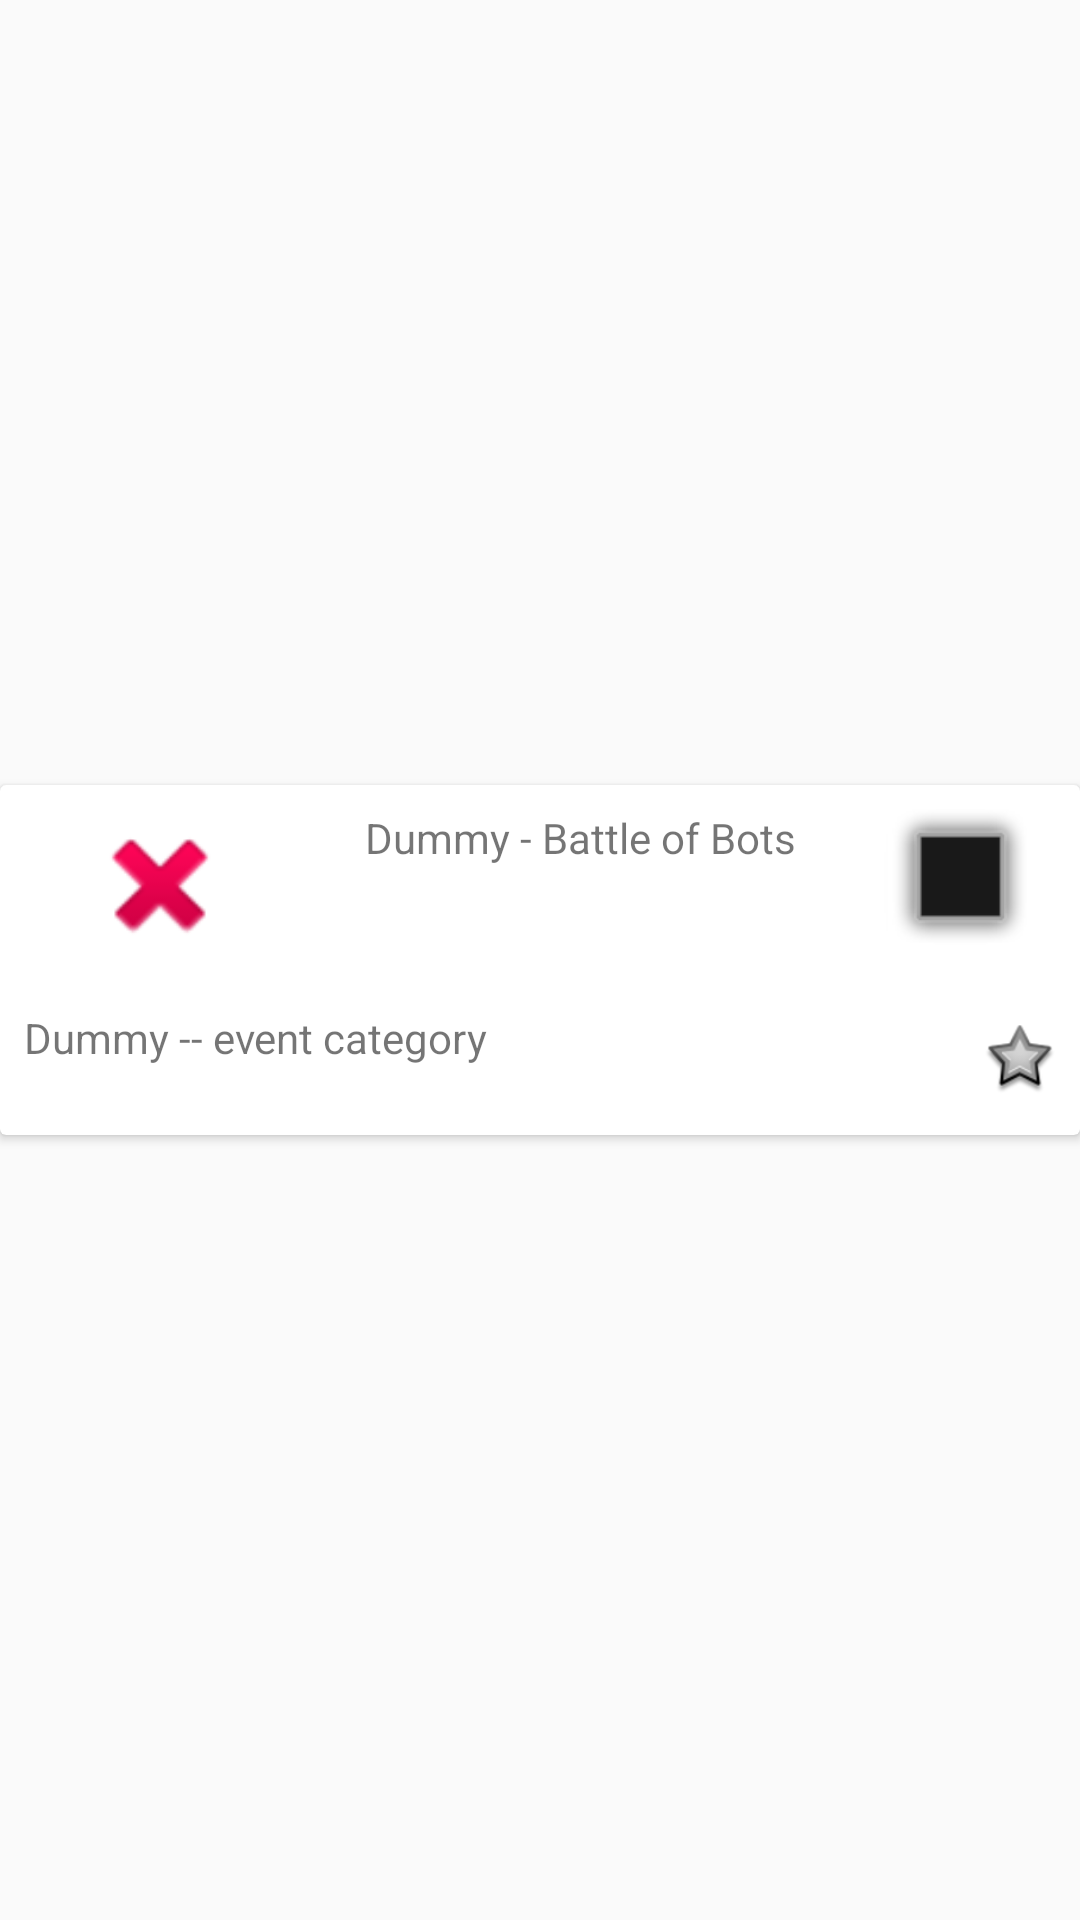

Point at icon controls on the screen. Image size 1080 × 1920, points as point (x, y).
delete: point (160, 886)
star: point (1020, 1057)
